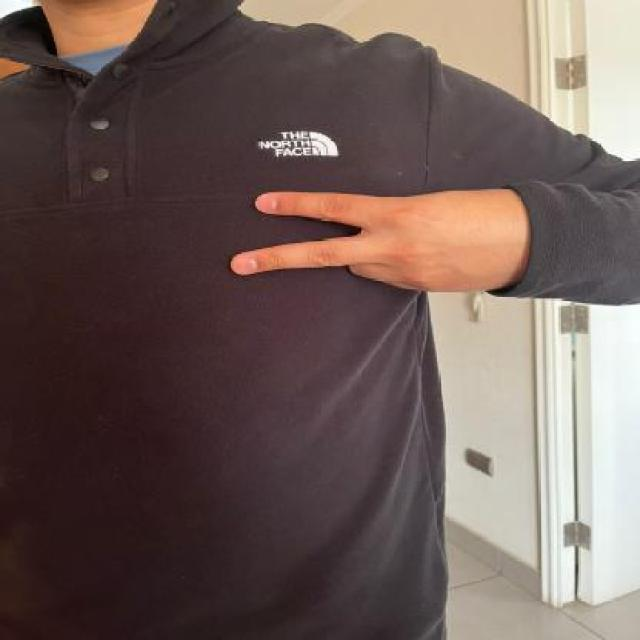H: (226, 179, 539, 301)
